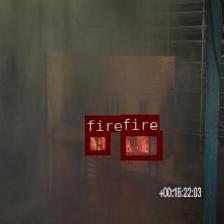fire: (120, 130, 160, 158), (85, 132, 110, 154)
